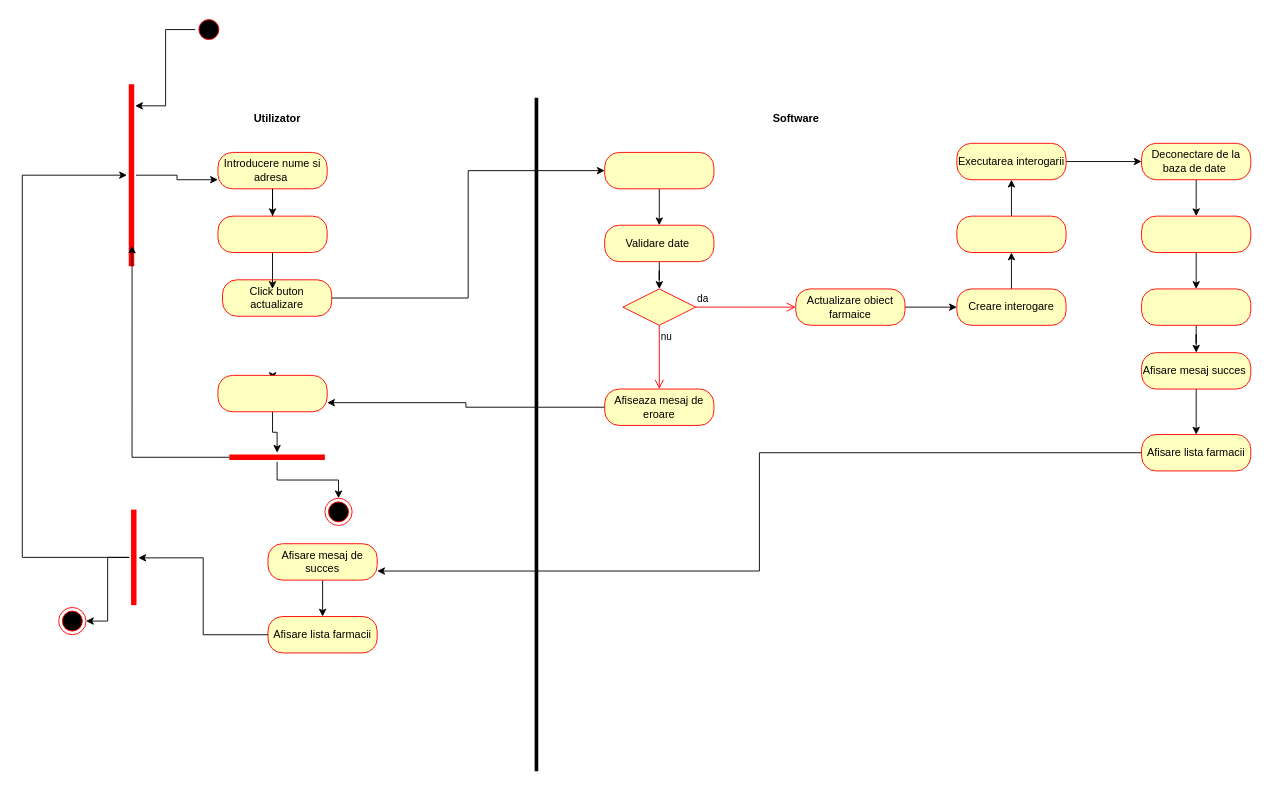
The diagram is 1267 pixels wide and 789 high, and some of its shapes have lost their labels. Each missing label, with the centre of its shape:
"Analiza rezultat" belongs at (1196,306).
"Conecatre la baza de date" belongs at (1011,234).
"Preluare date si id" belongs at (659,170).
"Preluare rezultate interogare" belongs at (1196,234).
"Selectare farmacie" belongs at (272,234).
"Vizualizare mesaj de eroare" belongs at (272,393).
